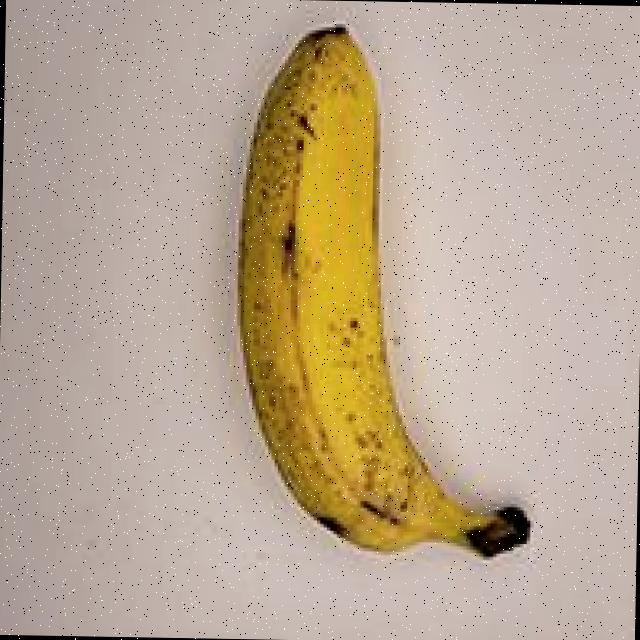Overripe: (169, 0, 552, 563)
